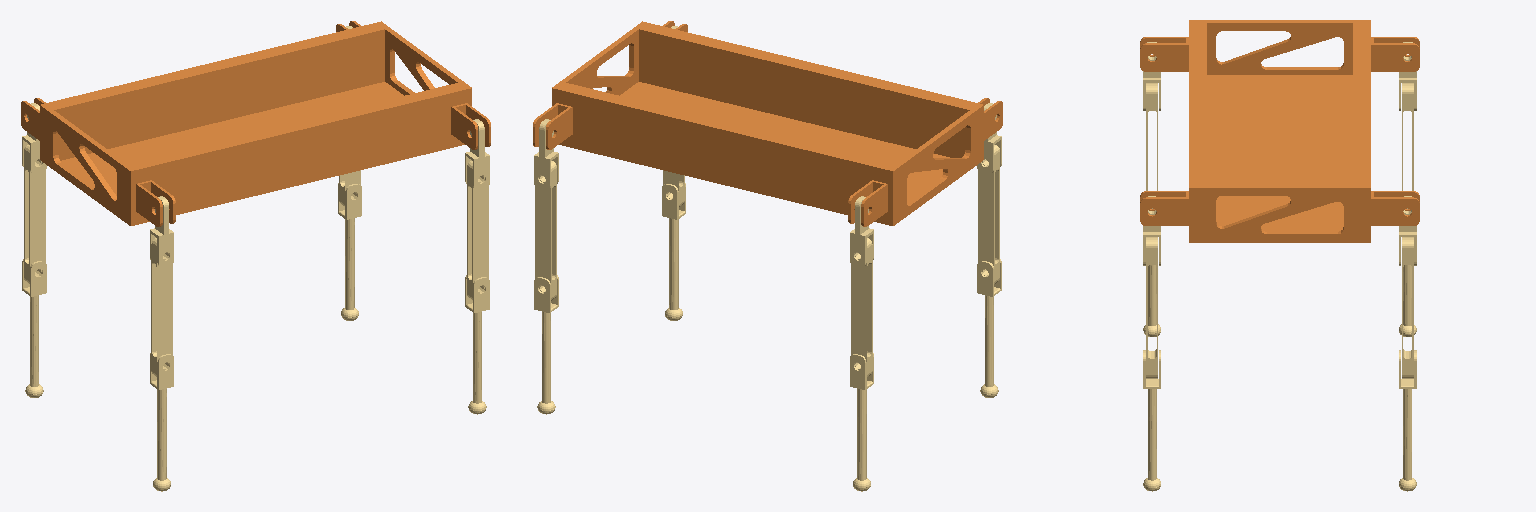
robot.urdf — quadroit_v1:
<?xml version="1.0" encoding="utf-8"?>
<!-- =================================================================================== -->
<!-- |    This document was autogenerated by xacro from /mnt/d/Aditya_MT/MT_Thesis/Quadruped/ROS/quadroit_ws/src/quadroit_v1/urdf/quadroitv1.urdf.xacro | -->
<!-- |    EDITING THIS FILE BY HAND IS NOT RECOMMENDED                                 | -->
<!-- =================================================================================== -->
<robot name="quadroit_v1">
  <!-- <material name="red">
        <color rgba="1 0 0 1"/>
    </material>

    <material name="white">
        <color rgba="1 1 1 1"/>
    </material> -->
  <link name="base_link">
    <contact>
      <lateral_friction value="1"/>
    </contact>
    <inertial>
      <origin rpy="0 0 0" xyz="0 0 0"/>
      <mass value="10"/>
      <inertia ixx="1.0" ixy="0.0" ixz="0.0" iyy="1.0" iyz="0.0" izz="1.0"/>
    </inertial>
    <visual>
      <origin rpy="0 0 0" xyz="0 0 0"/>
      <geometry>
        <mesh filename="meshes/base_link_torso.STL"/>
      </geometry>
      <material name="orange">
        <color rgba="0.92 0.59 0.30 1"/>
      </material>
    </visual>
    <collision>
      <origin rpy="0 0 0" xyz="0 0 0"/>
      <geometry>
        <mesh filename="meshes/base_link_torso.STL"/>
      </geometry>
    </collision>
  </link>


  <link name="hip_link_FL">
    <contact>
      <lateral_friction value="1"/>
    </contact>
    <inertial>
      <origin rpy="0 0 0" xyz="0.04 0 0"/>
      <mass value="2"/>
      <inertia ixx="1.0" ixy="0.0" ixz="0.0" iyy="1.0" iyz="0.0" izz="1.0"/>
    </inertial>
    <visual>
      <origin rpy="0 0 0" xyz="0 0 0"/>
      <geometry>
        <mesh filename="meshes/leg_fr_hip.STL"/>
      </geometry>
      <material name="honey">
        <color rgba="0.99 0.89 0.65 1"/>
      </material>
    </visual>
    <collision>
      <origin rpy="0 0 0" xyz="0 0 0"/>
      <geometry>
        <mesh filename="meshes/leg_fr_hip.STL"/>
      </geometry>
    </collision>
    <!-- <xacro:default_inertial mass="2"/> -->
  </link>
  <joint name="hip_joint_FL" type="revolute">
    <axis xyz="0 0 1"/>
    <limit effort="100" velocity="100"/>
    <joint_properties damping=".0" friction=".0"/>
    <parent link="base_link"/>
    <child link="hip_link_FL"/>
    <origin rpy="1.57075 1.57075 1.57075" xyz="0.3 0.21 0"/>
  </joint>
  <link name="thigh_link_FL">
    <contact>
      <lateral_friction value="1"/>
    </contact>
    <inertial>
      <origin rpy="0 0 0" xyz="0.1 0 0"/>
      <mass value="2"/>
      <inertia ixx="1.0" ixy="0.0" ixz="0.0" iyy="1.0" iyz="0.0" izz="1.0"/>
    </inertial>
    <visual>
      <origin rpy="0 0 0" xyz="0 0 0"/>
      <geometry>
        <mesh filename="meshes/leg_fr_thigh.STL"/>
      </geometry>
      <material name="honey">
        <color rgba="0.99 0.89 0.65 1"/>
      </material>
    </visual>
    <collision>
      <origin rpy="0 0 0" xyz="0 0 0"/>
      <geometry>
        <mesh filename="meshes/leg_fr_thigh.STL"/>
      </geometry>
    </collision>
    <!-- <xacro:default_inertial mass="2"/> -->
  </link>
  <joint name="elbow_joint_FL" type="revolute">
    <axis xyz="0 0 1"/>
    <limit effort="100" velocity="100"/>
    <joint_properties damping=".0" friction=".0"/>
    <parent link="hip_link_FL"/>
    <child link="thigh_link_FL"/>
    <origin rpy="1.57075 0 0" xyz="0.08 0 0"/>
  </joint>
  <link name="shank_link_FL">
    <contact>
      <lateral_friction value="1"/>
    </contact>
    <inertial>
      <origin rpy="0 0 0" xyz="0.11 0 0"/>
      <mass value="2"/>
      <inertia ixx="1.0" ixy="0.0" ixz="0.0" iyy="1.0" iyz="0.0" izz="1.0"/>
    </inertial>
    <visual>
      <origin rpy="0 0 0" xyz="0 0 0"/>
      <geometry>
        <mesh filename="meshes/leg_fr_shank.STL"/>
      </geometry>
      <material name="honey">
        <color rgba="0.99 0.89 0.65 1"/>
      </material>
    </visual>
    <collision>
      <origin rpy="0 0 0" xyz="0 0 0"/>
      <geometry>
        <mesh filename="meshes/leg_fr_shank.STL"/>
      </geometry>
    </collision>
  </link>
  <joint name="wrist_joint_FL" type="revolute">
    <axis xyz="0 0 1"/>
    <limit effort="100" velocity="100"/>
    <joint_properties damping=".0" friction=".0"/>
    <parent link="thigh_link_FL"/>
    <child link="shank_link_FL"/>
    <origin rpy="0 0 0" xyz="0.2 0 0"/>
  </joint>
  <link name="foot_link_FL">
    <contact>
      <friction_anchor/>
      <stiffness value="30000.0"/>
      <damping value="10000.0"/>
      <spinning_friction value="0.1"/>
      <lateral_friction value="10.0"/>
    </contact>
    <visual>
      <origin rpy="0 0 0" xyz="0 0 0"/>
      <geometry>
        <sphere radius="0.0"/>
      </geometry>
      <material name="honey">
        <color rgba="0.99 0.89 0.65 1"/>
      </material>
    </visual>
    <collision>
      <origin rpy="0 0 0" xyz="0 0 0"/>
      <geometry>
        <sphere radius="0.03"/>
      </geometry>
    </collision>
    <inertial>
      <mass value="0.1"/>
      <inertia ixx="0.000025" ixy="0" ixz="0" iyy="0.000025" iyz="0" izz="0.000025"/>
    </inertial>
  </link>
  <joint name="foot_FL" type="fixed">
    <parent link="shank_link_FL"/>
    <child link="foot_link_FL"/>
    <origin xyz="0.23 0 0"/>
    <dynamics damping="0.0" friction="0.0"/>
  </joint>

  
  <link name="hip_link_FR">
    <contact>
      <lateral_friction value="1"/>
    </contact>
    <inertial>
      <origin rpy="0 0 0" xyz="0.04 0 0"/>
      <mass value="2"/>
      <inertia ixx="1.0" ixy="0.0" ixz="0.0" iyy="1.0" iyz="0.0" izz="1.0"/>
    </inertial>
    <visual>
      <origin rpy="0 0 0" xyz="0 0 0"/>
      <geometry>
        <mesh filename="meshes/leg_fr_hip.STL"/>
      </geometry>
      <material name="honey">
        <color rgba="0.99 0.89 0.65 1"/>
      </material>
    </visual>
    <collision>
      <origin rpy="0 0 0" xyz="0 0 0"/>
      <geometry>
        <mesh filename="meshes/leg_fr_hip.STL"/>
      </geometry>
    </collision>
    <!-- <xacro:default_inertial mass="2"/> -->
  </link>
  <joint name="hip_joint_FR" type="revolute">
    <axis xyz="0 0 1"/>
    <limit effort="100" velocity="100"/>
    <joint_properties damping=".0" friction=".0"/>
    <parent link="base_link"/>
    <child link="hip_link_FR"/>
    <origin rpy="1.57075 1.57075 1.57075" xyz="0.3 -0.21 0"/>
  </joint>
  <link name="thigh_link_FR">
    <contact>
      <lateral_friction value="1"/>
    </contact>
    <inertial>
      <origin rpy="0 0 0" xyz="0.1 0 0"/>
      <mass value="2"/>
      <inertia ixx="1.0" ixy="0.0" ixz="0.0" iyy="1.0" iyz="0.0" izz="1.0"/>
    </inertial>
    <visual>
      <origin rpy="0 0 0" xyz="0 0 0"/>
      <geometry>
        <mesh filename="meshes/leg_fr_thigh.STL"/>
      </geometry>
      <material name="honey">
        <color rgba="0.99 0.89 0.65 1"/>
      </material>
    </visual>
    <collision>
      <origin rpy="0 0 0" xyz="0 0 0"/>
      <geometry>
        <mesh filename="meshes/leg_fr_thigh.STL"/>
      </geometry>
    </collision>
    <!-- <xacro:default_inertial mass="2"/> -->
  </link>
  <joint name="elbow_joint_FR" type="revolute">
    <axis xyz="0 0 1"/>
    <limit effort="100" velocity="100"/>
    <joint_properties damping=".0" friction=".0"/>
    <parent link="hip_link_FR"/>
    <child link="thigh_link_FR"/>
    <origin rpy="1.57075 0 0" xyz="0.08 0 0"/>
  </joint>
  <link name="shank_link_FR">
    <contact>
      <lateral_friction value="1"/>
    </contact>
    <inertial>
      <origin rpy="0 0 0" xyz="0.11 0 0"/>
      <mass value="2"/>
      <inertia ixx="1.0" ixy="0.0" ixz="0.0" iyy="1.0" iyz="0.0" izz="1.0"/>
    </inertial>
    <visual>
      <origin rpy="0 0 0" xyz="0 0 0"/>
      <geometry>
        <mesh filename="meshes/leg_fr_shank.STL"/>
      </geometry>
      <material name="honey">
        <color rgba="0.99 0.89 0.65 1"/>
      </material>
    </visual>
    <collision>
      <origin rpy="0 0 0" xyz="0 0 0"/>
      <geometry>
        <mesh filename="meshes/leg_fr_shank.STL"/>
      </geometry>
    </collision>
    <!-- <xacro:default_inertial mass="2"/> -->
  </link>
  <joint name="wrist_joint_FR" type="revolute">
    <axis xyz="0 0 1"/>
    <limit effort="100" velocity="100"/>
    <joint_properties damping=".0" friction=".0"/>
    <parent link="thigh_link_FR"/>
    <child link="shank_link_FR"/>
    <origin rpy="0 0 0" xyz="0.2 0 0"/>
  </joint>
  <link name="foot_link_FR">
    <contact>
      <friction_anchor/>
      <stiffness value="30000.0"/>
      <damping value="10000.0"/>
      <spinning_friction value="0.1"/>
      <lateral_friction value="10.0"/>
    </contact>
    <visual>
      <origin rpy="0 0 0" xyz="0 0 0"/>
      <geometry>
        <sphere radius="0.0"/>
      </geometry>
      <material name="honey">
        <color rgba="0.99 0.89 0.65 1"/>
      </material>
    </visual>
    <collision>
      <origin rpy="0 0 0" xyz="0 0 0"/>
      <geometry>
        <sphere radius="0.03"/>
      </geometry>
    </collision>
    <inertial>
      <mass value="0.1"/>
      <inertia ixx="0.000025" ixy="0" ixz="0" iyy="0.000025" iyz="0" izz="0.000025"/>
    </inertial>
  </link>
  <joint name="foot_FR" type="fixed">
    <parent link="shank_link_FR"/>
    <child link="foot_link_FR"/>
    <origin xyz="0.23 0 0"/>
    <dynamics damping="0.0" friction="0.0"/>
  </joint>


  <link name="hip_link_RL">
    <contact>
      <lateral_friction value="1"/>
    </contact>
    <inertial>
      <origin rpy="0 0 0" xyz="0.04 0 0"/>
      <mass value="2"/>
      <inertia ixx="1.0" ixy="0.0" ixz="0.0" iyy="1.0" iyz="0.0" izz="1.0"/>
    </inertial>
    <visual>
      <origin rpy="0 0 0" xyz="0 0 0"/>
      <geometry>
        <mesh filename="meshes/leg_fr_hip.STL"/>
      </geometry>
      <material name="honey">
        <color rgba="0.99 0.89 0.65 1"/>
      </material>
    </visual>
    <collision>
      <origin rpy="0 0 0" xyz="0 0 0"/>
      <geometry>
        <mesh filename="meshes/leg_fr_hip.STL"/>
      </geometry>
    </collision>
    <!-- <xacro:default_inertial mass="2"/> -->
  </link>
  <joint name="hip_joint_RL" type="revolute">
    <axis xyz="0 0 1"/>
    <limit effort="100" velocity="100"/>
    <joint_properties damping=".0" friction=".0"/>
    <parent link="base_link"/>
    <child link="hip_link_RL"/>
    <origin rpy="1.57075 1.57075 1.57075" xyz="-0.3 0.21 0"/>
  </joint>
  <link name="thigh_link_RL">
    <contact>
      <lateral_friction value="1"/>
    </contact>
    <inertial>
      <origin rpy="0 0 0" xyz="0.1 0 0"/>
      <mass value="2"/>
      <inertia ixx="1.0" ixy="0.0" ixz="0.0" iyy="1.0" iyz="0.0" izz="1.0"/>
    </inertial>
    <visual>
      <origin rpy="0 0 0" xyz="0 0 0"/>
      <geometry>
        <mesh filename="meshes/leg_fr_thigh.STL"/>
      </geometry>
      <material name="honey">
        <color rgba="0.99 0.89 0.65 1"/>
      </material>
    </visual>
    <collision>
      <origin rpy="0 0 0" xyz="0 0 0"/>
      <geometry>
        <mesh filename="meshes/leg_fr_thigh.STL"/>
      </geometry>
    </collision>
    <!-- <xacro:default_inertial mass="2"/> -->
  </link>
  <joint name="elbow_joint_RL" type="revolute">
    <axis xyz="0 0 1"/>
    <limit effort="100" velocity="100"/>
    <joint_properties damping=".0" friction=".0"/>
    <parent link="hip_link_RL"/>
    <child link="thigh_link_RL"/>
    <origin rpy="1.57075 0 0" xyz="0.08 0 0"/>
  </joint>
  <link name="shank_link_RL">
    <contact>
      <lateral_friction value="1"/>
    </contact>
    <inertial>
      <origin rpy="0 0 0" xyz="0.11 0 0"/>
      <mass value="2"/>
      <inertia ixx="1.0" ixy="0.0" ixz="0.0" iyy="1.0" iyz="0.0" izz="1.0"/>
    </inertial>
    <visual>
      <origin rpy="0 0 0" xyz="0 0 0"/>
      <geometry>
        <mesh filename="meshes/leg_fr_shank.STL"/>
      </geometry>
      <material name="honey">
        <color rgba="0.99 0.89 0.65 1"/>
      </material>
    </visual>
    <collision>
      <origin rpy="0 0 0" xyz="0 0 0"/>
      <geometry>
        <mesh filename="meshes/leg_fr_shank.STL"/>
      </geometry>
    </collision>
    <!-- <xacro:default_inertial mass="2"/> -->
  </link>
  <joint name="wrist_joint_RL" type="revolute">
    <axis xyz="0 0 1"/>
    <limit effort="100" velocity="100"/>
    <joint_properties damping=".0" friction=".0"/>
    <parent link="thigh_link_RL"/>
    <child link="shank_link_RL"/>
    <origin rpy="0 0 0" xyz="0.2 0 0"/>
  </joint>
  <link name="foot_link_RL">
    <contact>
      <friction_anchor/>
      <stiffness value="30000.0"/>
      <damping value="10000.0"/>
      <spinning_friction value="0.1"/>
      <lateral_friction value="10.0"/>
    </contact>
    <visual>
      <origin rpy="0 0 0" xyz="0 0 0"/>
      <geometry>
        <sphere radius="0.0"/>
      </geometry>
      <material name="honey">
        <color rgba="0.99 0.89 0.65 1"/>
      </material>
    </visual>
    <collision>
      <origin rpy="0 0 0" xyz="0 0 0"/>
      <geometry>
        <sphere radius="0.03"/>
      </geometry>
    </collision>
    <inertial>
      <mass value="0.1"/>
      <inertia ixx="0.000025" ixy="0" ixz="0" iyy="0.000025" iyz="0" izz="0.000025"/>
    </inertial>
  </link>
  <joint name="foot_RL" type="fixed">
    <parent link="shank_link_RL"/>
    <child link="foot_link_RL"/>
    <origin xyz="0.23 0 0"/>
    <dynamics damping="0.0" friction="0.0"/>
  </joint>


  <link name="hip_link_RR">
    <contact>
      <lateral_friction value="1"/>
    </contact>
    <inertial>
      <origin rpy="0 0 0" xyz="0.04 0 0"/>
      <mass value="2"/>
      <inertia ixx="1.0" ixy="0.0" ixz="0.0" iyy="1.0" iyz="0.0" izz="1.0"/>
    </inertial>
    <visual>
      <origin rpy="0 0 0" xyz="0 0 0"/>
      <geometry>
        <mesh filename="meshes/leg_fr_hip.STL"/>
      </geometry>
      <material name="honey">
        <color rgba="0.99 0.89 0.65 1"/>
      </material>
    </visual>
    <collision>
      <origin rpy="0 0 0" xyz="0 0 0"/>
      <geometry>
        <mesh filename="meshes/leg_fr_hip.STL"/>
      </geometry>
    </collision>
    <!-- <xacro:default_inertial mass="2"/> -->
  </link>
  <joint name="hip_joint_RR" type="revolute">
    <axis xyz="0 0 1"/>
    <limit effort="100" velocity="100"/>
    <joint_properties damping=".0" friction=".0"/>
    <parent link="base_link"/>
    <child link="hip_link_RR"/>
    <origin rpy="1.57075 1.57075 1.57075" xyz="-0.3 -0.21 0"/>
  </joint>
  <link name="thigh_link_RR">
    <contact>
      <lateral_friction value="1"/>
    </contact>
    <inertial>
      <origin rpy="0 0 0" xyz="0.1 0 0"/>
      <mass value="2"/>
      <inertia ixx="1.0" ixy="0.0" ixz="0.0" iyy="1.0" iyz="0.0" izz="1.0"/>
    </inertial>
    <visual>
      <origin rpy="0 0 0" xyz="0 0 0"/>
      <geometry>
        <mesh filename="meshes/leg_fr_thigh.STL"/>
      </geometry>
      <material name="honey">
        <color rgba="0.99 0.89 0.65 1"/>
      </material>
    </visual>
    <collision>
      <origin rpy="0 0 0" xyz="0 0 0"/>
      <geometry>
        <mesh filename="meshes/leg_fr_thigh.STL"/>
      </geometry>
    </collision>
    <!-- <xacro:default_inertial mass="2"/> -->
  </link>
  <joint name="elbow_joint_RR" type="revolute">
    <axis xyz="0 0 1"/>
    <limit effort="100" velocity="100"/>
    <joint_properties damping=".0" friction=".0"/>
    <parent link="hip_link_RR"/>
    <child link="thigh_link_RR"/>
    <origin rpy="1.57075 0 0" xyz="0.08 0 0"/>
  </joint>
  <link name="shank_link_RR">
    <contact>
      <lateral_friction value="1"/>
    </contact>
    <inertial>
      <origin rpy="0 0 0" xyz="0.11 0 0"/>
      <mass value="2"/>
      <inertia ixx="1.0" ixy="0.0" ixz="0.0" iyy="1.0" iyz="0.0" izz="1.0"/>
    </inertial>
    <visual>
      <origin rpy="0 0 0" xyz="0 0 0"/>
      <geometry>
        <mesh filename="meshes/leg_fr_shank.STL"/>
      </geometry>
      <material name="honey">
        <color rgba="0.99 0.89 0.65 1"/>
      </material>
    </visual>
    <collision>
      <origin rpy="0 0 0" xyz="0 0 0"/>
      <geometry>
        <mesh filename="meshes/leg_fr_shank.STL"/>
      </geometry>
    </collision>
    <!-- <xacro:default_inertial mass="2"/> -->
  </link>
  <joint name="wrist_joint_RR" type="revolute">
    <axis xyz="0 0 1"/>
    <limit effort="100" velocity="100"/>
    <joint_properties damping=".0" friction=".0"/>
    <parent link="thigh_link_RR"/>
    <child link="shank_link_RR"/>
    <origin rpy="0 0 0" xyz="0.2 0 0"/>
  </joint>
  <link name="foot_link_RR">
    <contact>
      <friction_anchor/>
      <stiffness value="30000.0"/>
      <damping value="10000.0"/>
      <spinning_friction value="0.1"/>
      <lateral_friction value="10.0"/>
    </contact>
    <visual>
      <origin rpy="0 0 0" xyz="0 0 0"/>
      <geometry>
        <sphere radius="0.0"/>
      </geometry>
      <material name="honey">
        <color rgba="0.99 0.89 0.65 1"/>
      </material>
    </visual>
    <collision>
      <origin rpy="0 0 0" xyz="0 0 0"/>
      <geometry>
        <sphere radius="0.03"/>
      </geometry>
    </collision>
    <inertial>
      <mass value="0.1"/>
      <inertia ixx="0.000025" ixy="0" ixz="0" iyy="0.000025" iyz="0" izz="0.000025"/>
    </inertial>
  </link>
  <joint name="foot_RR" type="fixed">
    <parent link="shank_link_RR"/>
    <child link="foot_link_RR"/>
    <origin xyz="0.23 0 0"/>
    <dynamics damping="0.0" friction="0.0"/>
  </joint>
</robot>

--- Facts derived from the render (not from the file) ---
The picture shows the robot from 3 angles, left to right: view 1: azimuth 30°, elevation 25°; view 2: azimuth 150°, elevation 25°; view 3: azimuth 270°, elevation 25°; orthographic projection.
Robot: quadroit_v1 — 17 links, 16 joints (12 revolute, 4 fixed); root link base_link; default pose: every joint at zero.
Links seen in each view (by area): view 1: base_link, thigh_link_FR, thigh_link_RL, thigh_link_RR, shank_link_RR, shank_link_FL, shank_link_RL, shank_link_FR, hip_link_FR, hip_link_RR, hip_link_RL; view 2: base_link, thigh_link_FL, thigh_link_RR, thigh_link_RL, shank_link_RL, shank_link_FR, shank_link_RR, shank_link_FL, hip_link_FL, hip_link_RL, hip_link_RR; view 3: base_link, shank_link_FL, shank_link_FR, thigh_link_FL, thigh_link_FR, shank_link_RR, shank_link_RL, thigh_link_RL, thigh_link_RR.
Link boxes in pixels (x1,y1,x2,y2): base_link: (21, 21, 490, 226); thigh_link_FR: (467, 161, 488, 300); thigh_link_RL: (24, 145, 45, 283); thigh_link_RR: (151, 238, 172, 376); shank_link_RR: (150, 353, 173, 491); shank_link_FL: (338, 183, 361, 320); shank_link_RL: (22, 259, 46, 397); shank_link_FR: (465, 275, 489, 414); hip_link_FR: (465, 119, 489, 190); hip_link_RR: (150, 196, 173, 267); hip_link_RL: (22, 103, 46, 174); base_link: (533, 21, 1002, 226); thigh_link_FL: (535, 161, 556, 300); thigh_link_RR: (978, 145, 999, 283); thigh_link_RL: (851, 238, 872, 376); shank_link_RL: (850, 353, 873, 491); shank_link_FR: (662, 183, 685, 320); shank_link_RR: (977, 259, 1001, 397); shank_link_FL: (534, 275, 558, 414); hip_link_FL: (534, 119, 558, 190); hip_link_RL: (850, 196, 873, 267); hip_link_RR: (977, 103, 1001, 174); base_link: (1140, 20, 1419, 242); shank_link_FL: (1399, 350, 1416, 491); shank_link_FR: (1143, 350, 1160, 491); thigh_link_FL: (1402, 237, 1413, 378); thigh_link_FR: (1146, 237, 1157, 378); shank_link_RR: (1143, 265, 1160, 336); shank_link_RL: (1399, 265, 1416, 336); thigh_link_RL: (1402, 83, 1413, 208); thigh_link_RR: (1146, 83, 1157, 208).
Size in the robot's own frame: 0.65 by 0.46 by 0.56 metres.
Meshes: 4 distinct files referenced, 13 mesh visuals loaded (4 binary STL).
